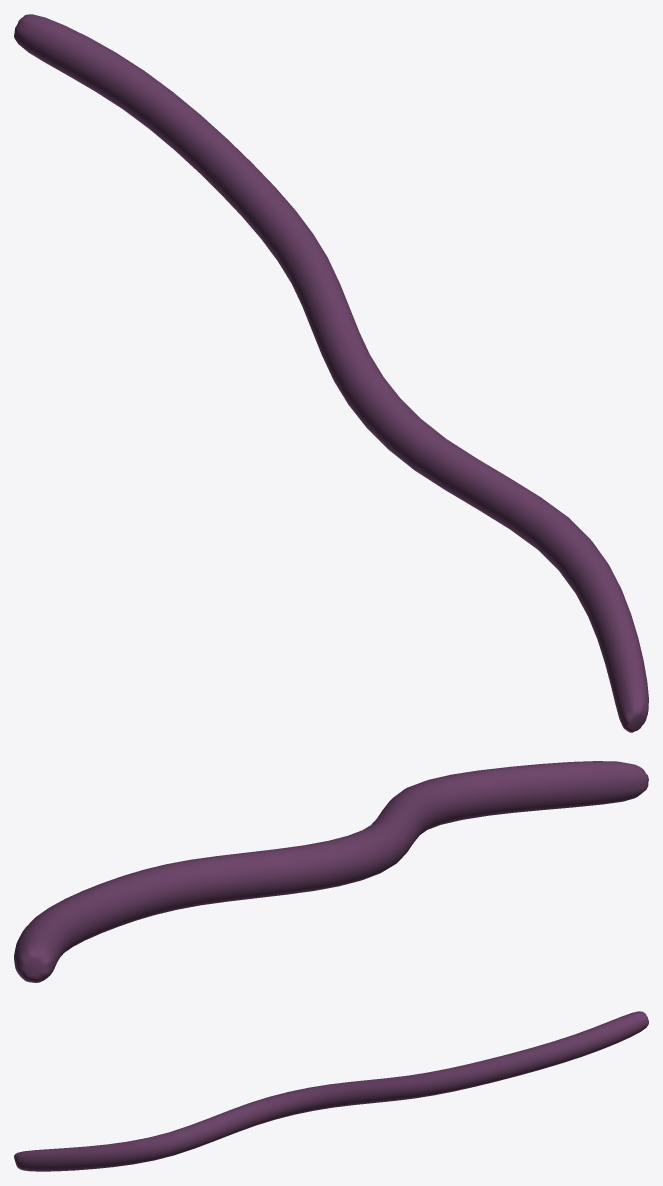
File: frame_31.obj
The picture shows the model from 3 angles, top to bottom: view 1: azimuth 30°, elevation 25°; view 2: azimuth 150°, elevation 25°; view 3: azimuth 270°, elevation 25°; orthographic projection. The views are drawn at different scales.
Parts seen in each view (by area): view 1: worm2; view 2: worm2; view 3: worm2.
Part boxes in pixels (x1,y1,x2,y2): worm2: (14, 14, 648, 732); worm2: (14, 761, 648, 982); worm2: (14, 1011, 648, 1171).
Size of the model in its own units: 189 by 456 by 1718.
